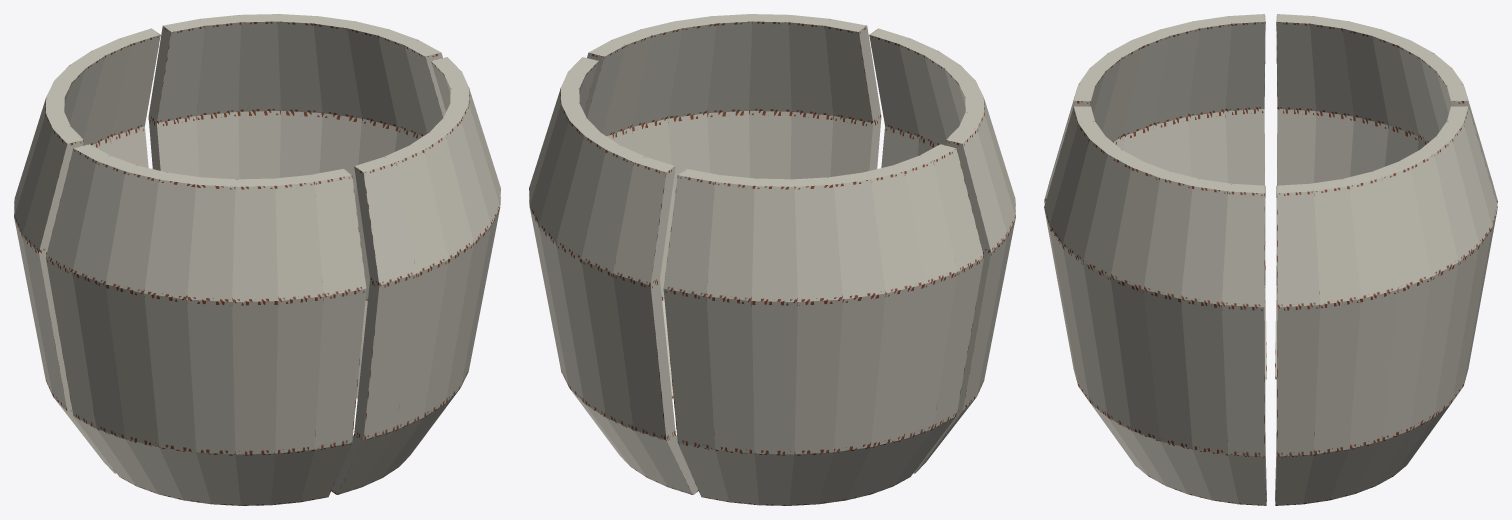
File: PressureRunner_FragmentAssets.fbx
3 renders of one model, left to right at view 1: azimuth 30°, elevation 25°; view 2: azimuth 150°, elevation 25°; view 3: azimuth 270°, elevation 25°, orthographic.
Visible parts, largest first — view 1: SM_PressureRunner_Fragment_2, SM_PressureRunner_Fragment_0, SM_PressureRunner_Fragment_3, SM_PressureRunner_Fragment_1; view 2: SM_PressureRunner_Fragment_1, SM_PressureRunner_Fragment_3, SM_PressureRunner_Fragment_0, SM_PressureRunner_Fragment_2; view 3: SM_PressureRunner_Fragment_0, SM_PressureRunner_Fragment_3, SM_PressureRunner_Fragment_1, SM_PressureRunner_Fragment_2.
Part boxes in pixels (x1=…): SM_PressureRunner_Fragment_2: x1=46, y1=144, x2=366, y2=505; SM_PressureRunner_Fragment_0: x1=148, y1=14, x2=445, y2=398; SM_PressureRunner_Fragment_3: x1=331, y1=57, x2=500, y2=494; SM_PressureRunner_Fragment_1: x1=14, y1=28, x2=160, y2=473; SM_PressureRunner_Fragment_1: x1=663, y1=144, x2=983, y2=505; SM_PressureRunner_Fragment_3: x1=584, y1=14, x2=881, y2=398; SM_PressureRunner_Fragment_0: x1=529, y1=57, x2=698, y2=494; SM_PressureRunner_Fragment_2: x1=869, y1=28, x2=1015, y2=473; SM_PressureRunner_Fragment_0: x1=1275, y1=106, x2=1497, y2=505; SM_PressureRunner_Fragment_3: x1=1044, y1=106, x2=1266, y2=505; SM_PressureRunner_Fragment_1: x1=1275, y1=14, x2=1497, y2=379; SM_PressureRunner_Fragment_2: x1=1044, y1=14, x2=1266, y2=379.
Size of the model in its own units: 97.14 by 73.48 by 90.24.
